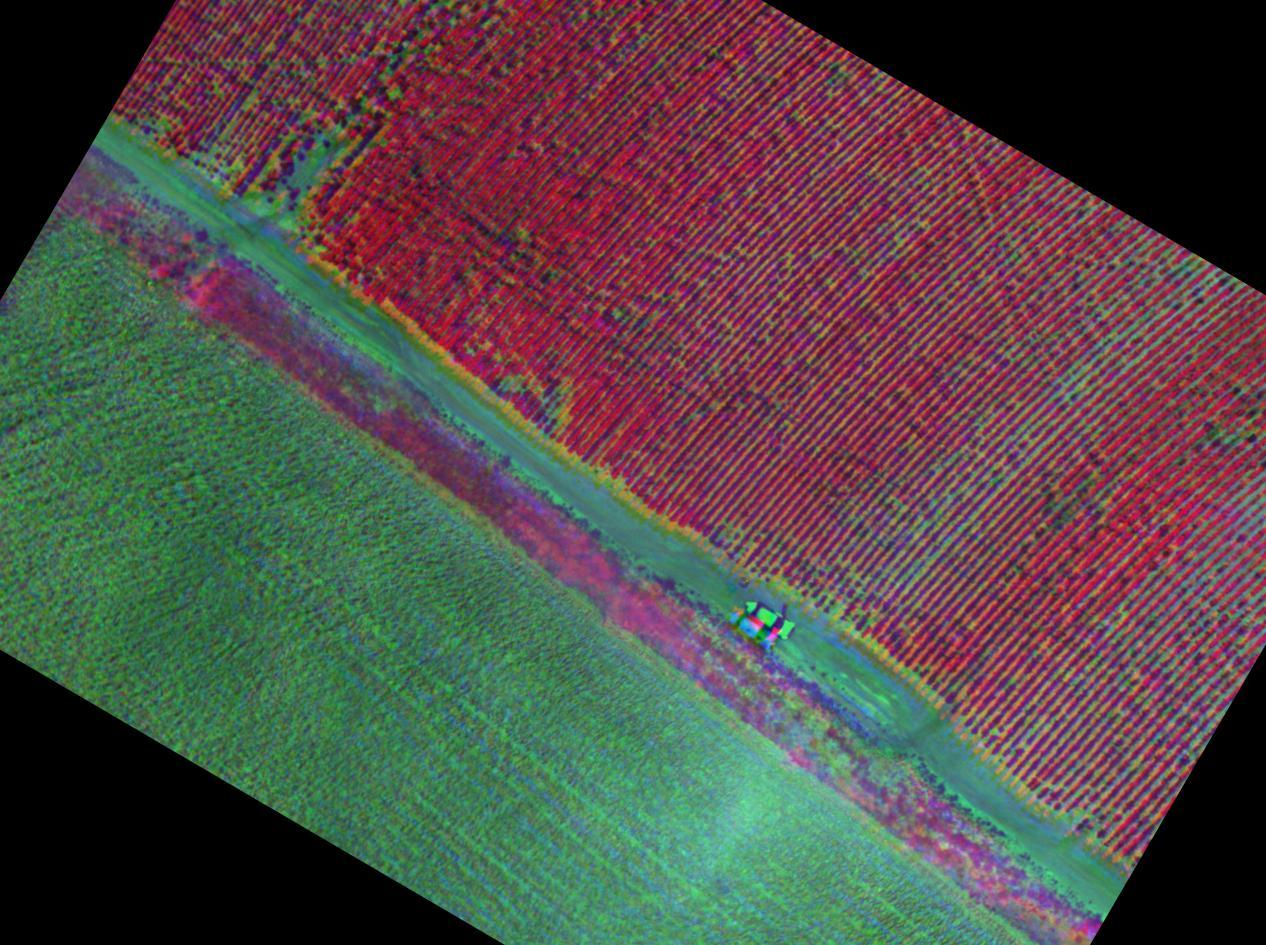dc: (249, 69, 395, 237), (795, 515, 940, 623), (1029, 446, 1123, 541), (485, 345, 579, 436)
